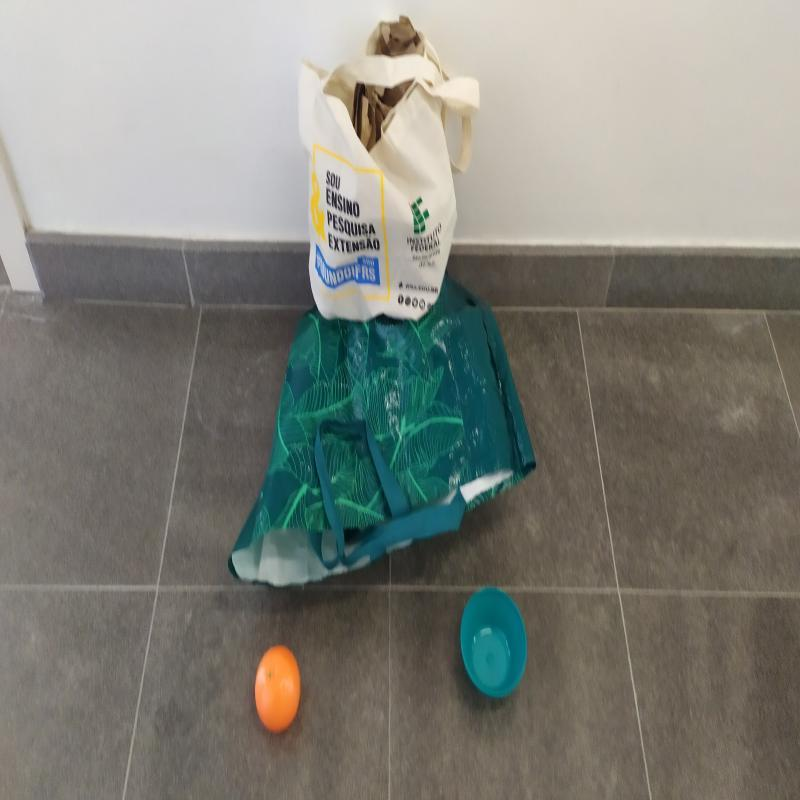Bag: (230, 288, 541, 594), (293, 12, 486, 318)
Bowl: (461, 588, 528, 704)
Orange: (254, 637, 304, 734)
